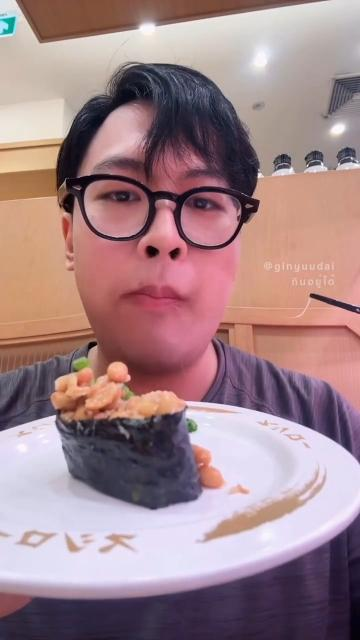janwhite: (0, 507, 266, 594), (219, 403, 360, 551)
